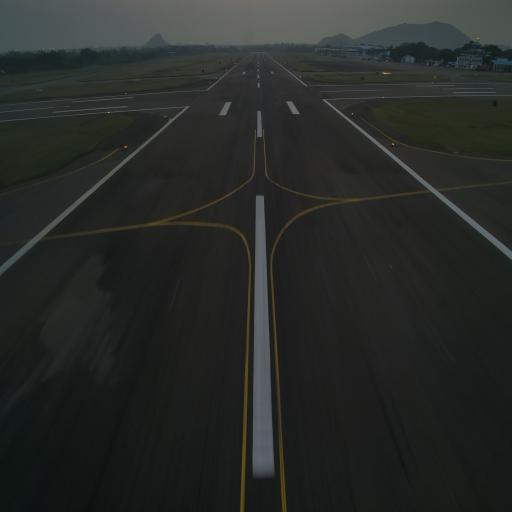on: (124, 142, 128, 152), (350, 110, 355, 118), (162, 113, 167, 120), (391, 140, 395, 148)
